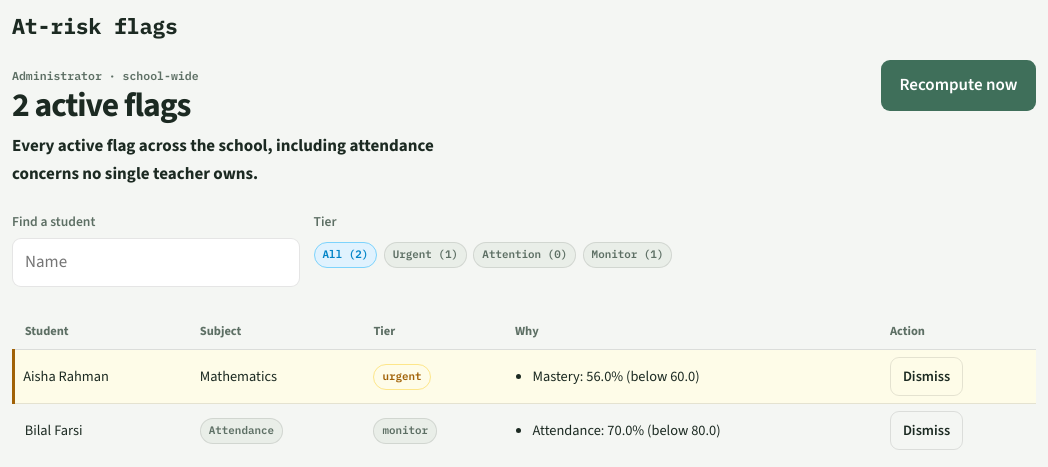
Test: AdminAtRiskPage › filters the school-wide list by tier
expect the text "Aisha Rahman" is shown: met, box [14, 350, 189, 404]
Click the button "Monitor (1)": [628, 255] box [583, 242, 672, 268]
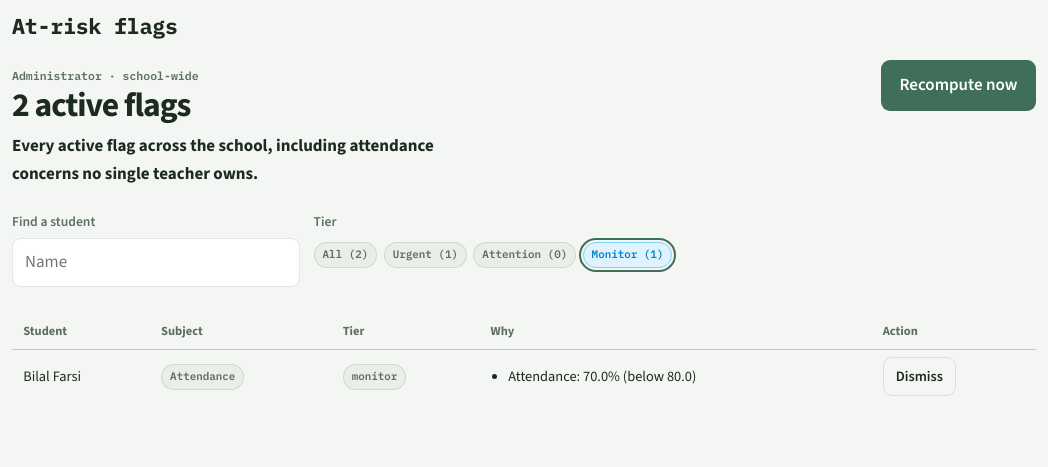
expect the text "Bilal Farsi" is shown: met, box [12, 350, 150, 403]
expect the text "Aisha Rahman" is gone: met
